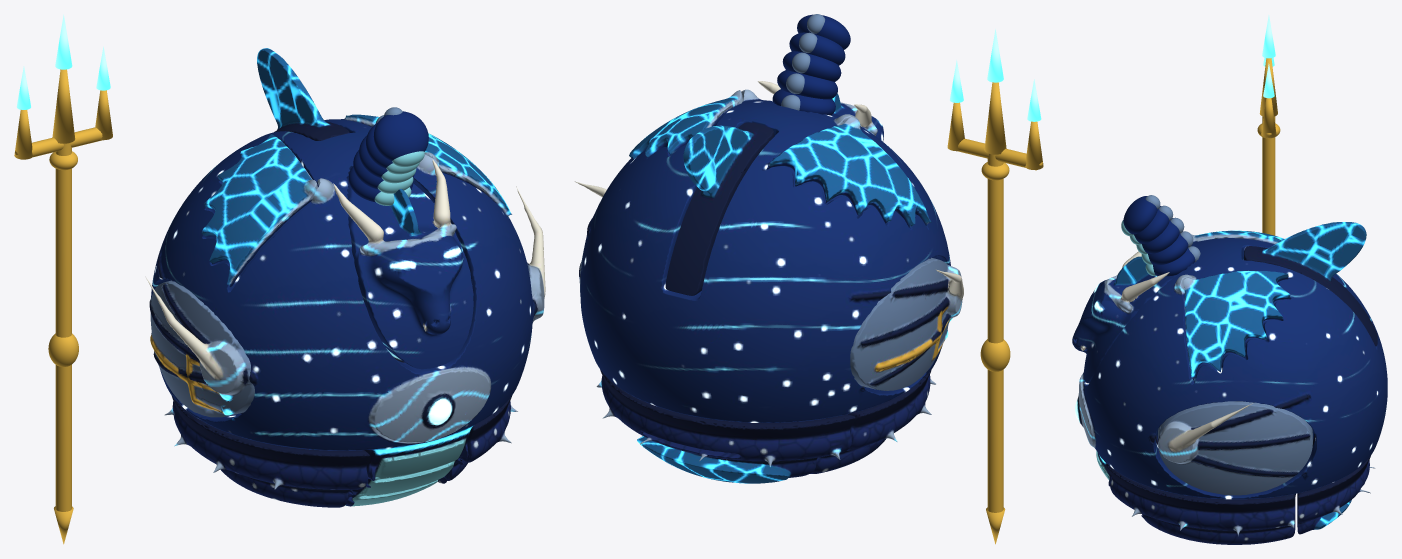
File: leviathan-ball.glb
The picture shows the model from 3 angles, left to right: view 1: azimuth 30°, elevation 25°; view 2: azimuth 150°, elevation 25°; view 3: azimuth 270°, elevation 25°; orthographic projection. The views are drawn at different scales.
Parts seen in each view (by area): view 1: ball_body, ball_head-mesh, ball_fin_r-mesh, ball_claw_r-mesh, ball_hood_r-mesh, ball_trident-mesh, ball_dorsal-mesh, ball_hood_l-mesh, ball_neck_8-mesh, ball_claw_l-mesh, ball_fin_l-mesh, ball_prong_c-mesh (+3 smaller); view 2: ball_body, ball_tail-mesh, ball_fin_r-mesh, ball_dorsal-mesh, ball_hood_r-mesh, ball_trident-mesh, ball_claw_r-mesh, ball_hood_l-mesh, ball_prong_c-mesh, ball_head-mesh, ball_neck_5-mesh, ball_neck_6-mesh (+7 smaller); view 3: ball_body, ball_fin_l-mesh, ball_claw_l-mesh, ball_hood_l-mesh, ball_dorsal-mesh, ball_head-mesh, ball_tail-mesh, ball_trident-mesh, ball_neck_8-mesh, ball_hood_r-mesh, ball_neck_5-mesh, ball_neck_6-mesh (+4 smaller).
Boxes of the visible parts, <box> form: ball_body: <box>151,119,537,506</box>; ball_head-mesh: <box>333,159,473,369</box>; ball_fin_r-mesh: <box>146,278,254,417</box>; ball_claw_r-mesh: <box>171,395,369,507</box>; ball_hood_r-mesh: <box>201,134,317,287</box>; ball_trident-mesh: <box>55,143,71,511</box>; ball_dorsal-mesh: <box>257,48,349,140</box>; ball_hood_l-mesh: <box>344,114,511,216</box>; ball_neck_8-mesh: <box>373,111,428,161</box>; ball_claw_l-mesh: <box>444,395,517,480</box>; ball_fin_l-mesh: <box>516,186,545,322</box>; ball_prong_c-mesh: <box>52,69,75,143</box>; ball_body: <box>580,89,950,422</box>; ball_tail-mesh: <box>600,369,855,483</box>; ball_fin_r-mesh: <box>850,257,963,390</box>; ball_dorsal-mesh: <box>665,122,774,295</box>; ball_hood_r-mesh: <box>766,117,931,228</box>; ball_trident-mesh: <box>987,154,1003,512</box>; ball_claw_r-mesh: <box>810,369,935,473</box>; ball_hood_l-mesh: <box>629,90,742,159</box>; ball_prong_c-mesh: <box>984,82,1006,154</box>; ball_head-mesh: <box>758,81,883,141</box>; ball_neck_5-mesh: <box>777,70,837,99</box>; ball_neck_6-mesh: <box>782,51,841,81</box>; ball_body: <box>1075,238,1387,517</box>; ball_fin_l-mesh: <box>1158,401,1312,495</box>; ball_claw_l-mesh: <box>1107,466,1295,544</box>; ball_hood_l-mesh: <box>1183,271,1290,380</box>; ball_dorsal-mesh: <box>1244,222,1377,346</box>; ball_head-mesh: <box>1072,251,1195,383</box>; ball_tail-mesh: <box>1297,456,1375,534</box>; ball_trident-mesh: <box>1262,116,1275,235</box>; ball_neck_8-mesh: <box>1123,196,1157,234</box>; ball_hood_r-mesh: <box>1191,230,1284,244</box>; ball_neck_5-mesh: <box>1148,233,1188,265</box>; ball_neck_6-mesh: <box>1142,218,1179,253</box>.
Bounding box in the file's own units: 2.97 × 3.06 × 2.07.
Materials: 6 (1 with a texture image).
